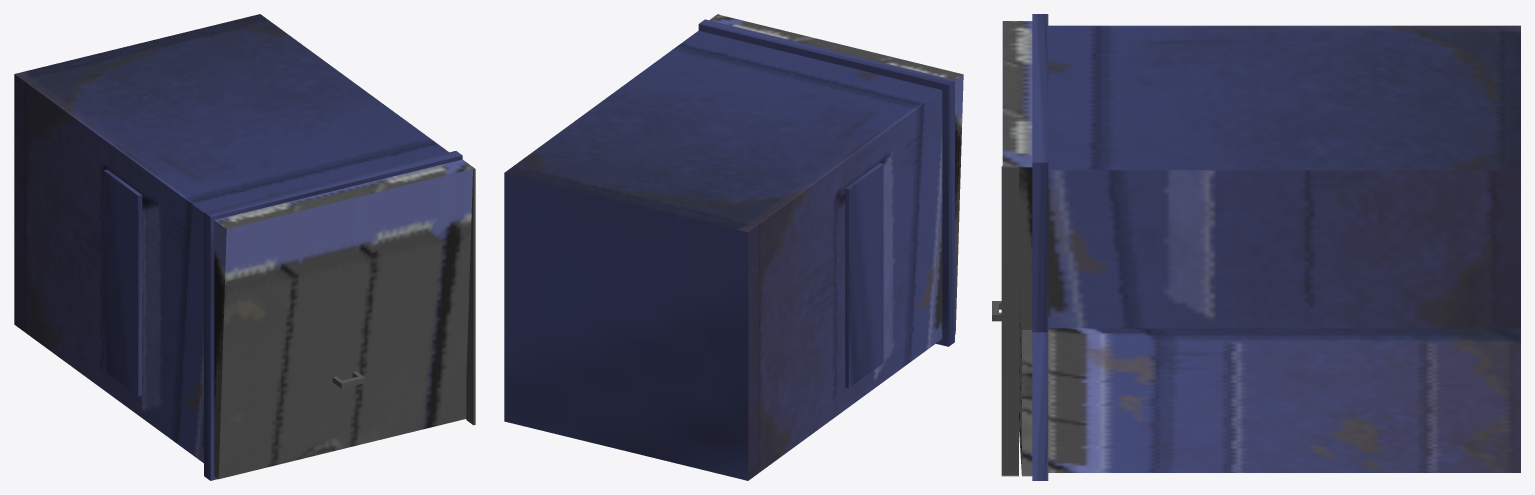
Rendered from pz_g020_trashcontainers_01_blue_dumpster_part1.obj.
3 views of the same model, side by side, from view 1: azimuth 30°, elevation 25°; view 2: azimuth 150°, elevation 25°; view 3: azimuth 270°, elevation 25° (orthographic). The views are drawn at different scales.
Visible parts, largest first — view 1: closed_lid_top, dumpster_body_front, dumpster_body_right, side_lift_bar_right, closed_lid_rear, upper_lip_top, closed_lid_right, upper_lip_right, upper_lip_front, lid_split_right, side_lift_bar_top, lid_split_top; view 2: dumpster_body_bottom, dumpster_body_front, dumpster_body_right, side_lift_bar_right, upper_lip_bottom, closed_lid_rear, upper_lip_right, upper_lip_front, closed_lid_right, side_lift_bar_bottom; view 3: dumpster_body_right, dumpster_body_front, dumpster_body_rear, lid_split_right, closed_lid_rear, upper_lip_right, upper_lip_front, upper_lip_rear, closed_lid_right, closed_lid_front.
Boxes of the visible parts, x1,y1,x2,y2 form: closed_lid_top: (218,169,472,478); dumpster_body_front: (15,14,448,212); dumpster_body_right: (14,74,203,462); side_lift_bar_right: (103,171,138,395); closed_lid_rear: (214,159,474,228); upper_lip_top: (210,155,462,480); closed_lid_right: (214,220,226,478); upper_lip_right: (204,212,210,480); upper_lip_front: (204,151,462,216); lid_split_right: (466,169,473,424); side_lift_bar_top: (138,195,142,396); lid_split_top: (473,169,475,424); dumpster_body_bottom: (504,173,748,480); dumpster_body_front: (504,30,941,232); dumpster_body_right: (748,90,942,480); side_lift_bar_right: (849,164,883,387); upper_lip_bottom: (698,24,948,346); closed_lid_rear: (709,15,963,80); upper_lip_right: (948,81,954,346); upper_lip_front: (699,19,954,84); closed_lid_right: (955,74,963,334); side_lift_bar_bottom: (845,188,848,388); dumpster_body_right: (1048,170,1520,328); dumpster_body_front: (1048,25,1520,170); dumpster_body_rear: (1048,328,1520,472); lid_split_right: (1001,167,1018,474); closed_lid_rear: (1002,21,1032,167); upper_lip_right: (1032,162,1048,332); upper_lip_front: (1032,14,1048,162); upper_lip_rear: (1032,332,1048,480); closed_lid_right: (1019,167,1032,329); closed_lid_front: (1022,330,1032,476).
Size of the model in its own units: 1 by 1 by 1.5.
1 material, 1 textured.
